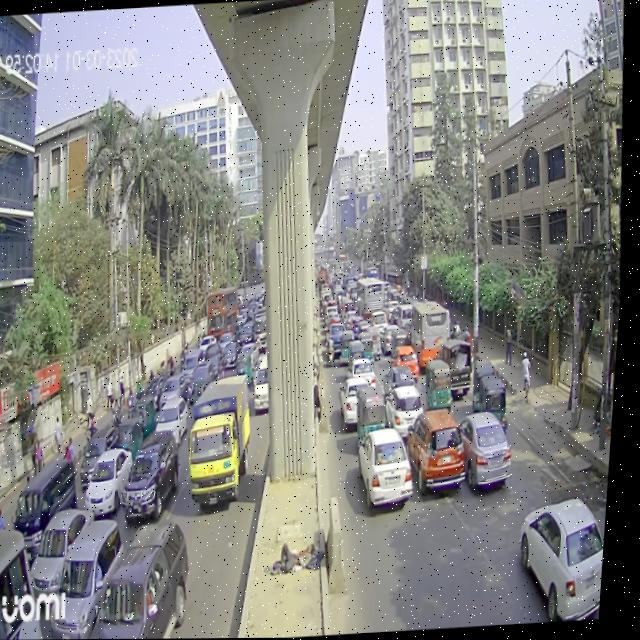cng: (428, 352, 461, 416), (361, 391, 394, 449), (486, 376, 517, 437), (121, 414, 149, 473), (340, 328, 363, 368), (241, 354, 262, 395), (358, 336, 380, 374)
